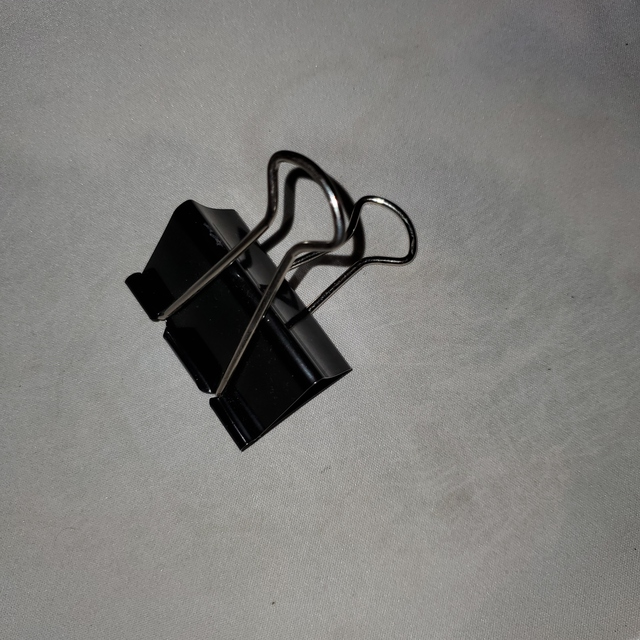clip: (127, 147, 421, 460)
